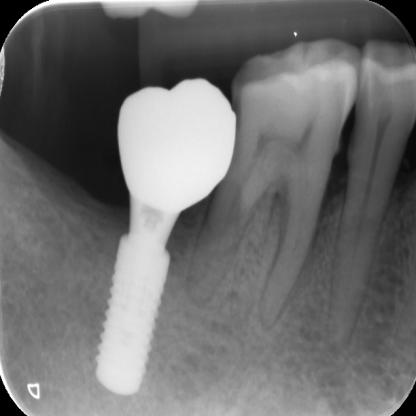ITI: (80, 217, 183, 408)
